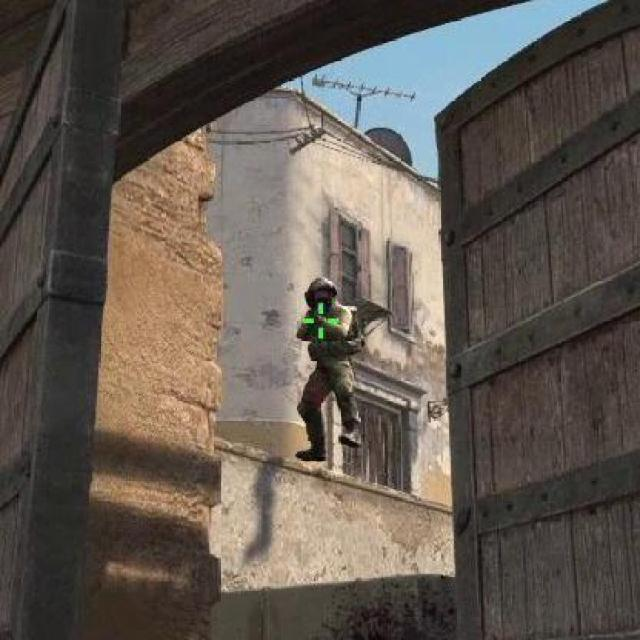CT: (296, 276, 350, 436)
CT_HEAD: (309, 269, 337, 309)
